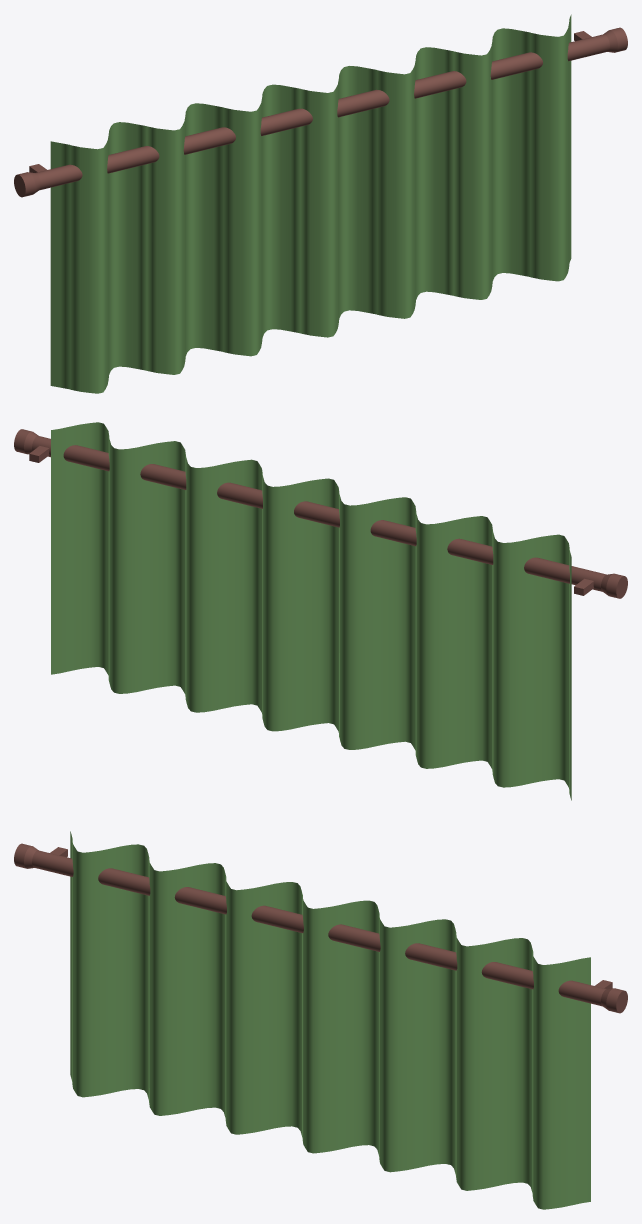
Rendered from curtains_short.fbx.
The picture shows the model from 3 angles, top to bottom: view 1: azimuth 30°, elevation 25°; view 2: azimuth 150°, elevation 25°; view 3: azimuth 330°, elevation 25°; orthographic projection.
Parts seen in each view (by area): view 1: Verho, Verhotanko; view 2: Verho, Verhotanko; view 3: Verho, Verhotanko.
Part boxes in pixels (x1,y1,x2,y2): Verho: [50, 14, 571, 393]; Verhotanko: [14, 27, 627, 197]; Verho: [51, 422, 571, 800]; Verhotanko: [14, 429, 627, 598]; Verho: [70, 831, 590, 1209]; Verhotanko: [14, 843, 627, 1013].
Size of the model in its own units: 1.55 by 0.6 by 0.1097.
